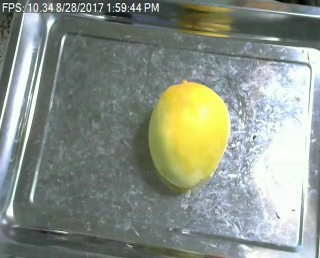Mango: (147, 79, 230, 190)
